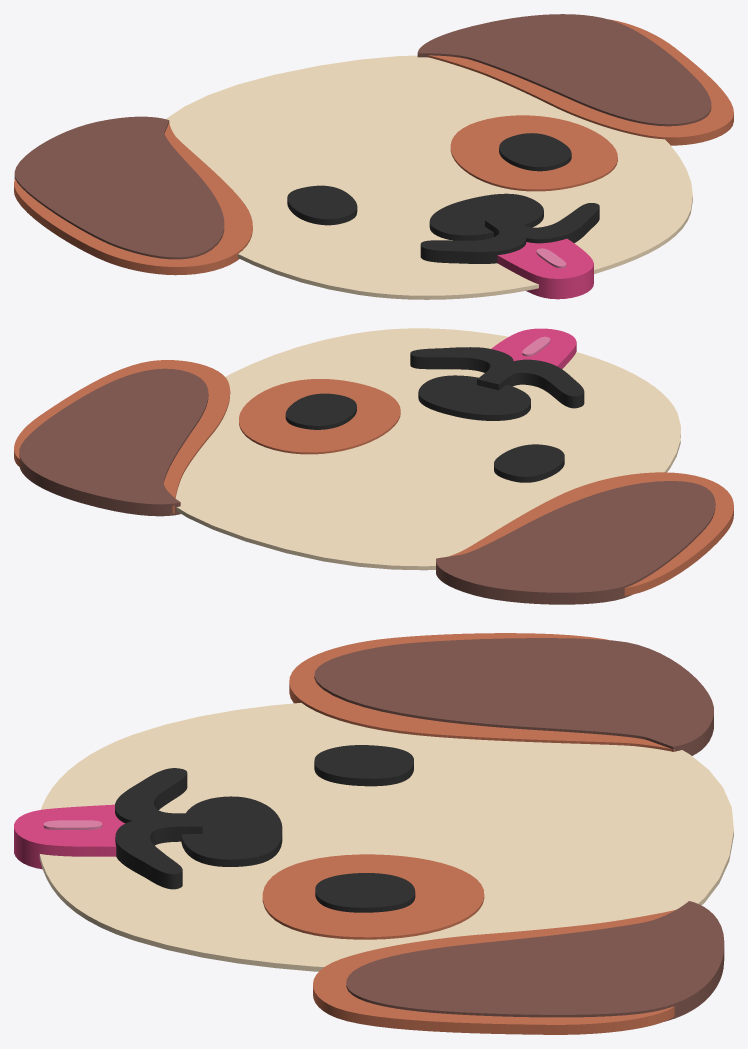
Rendered from emoji_u1f436.glb.
The picture shows the model from 3 angles, top to bottom: view 1: azimuth 30°, elevation 25°; view 2: azimuth 150°, elevation 25°; view 3: azimuth 270°, elevation 25°; orthographic projection. The views are drawn at different scales.
Visible parts, largest first — view 1: emoji_u1f436; view 2: emoji_u1f436; view 3: emoji_u1f436.
Part boxes in pixels (left/top/right/bottom): emoji_u1f436: left=14, top=14, right=733, bottom=299; emoji_u1f436: left=14, top=328, right=733, bottom=604; emoji_u1f436: left=14, top=633, right=733, bottom=1034.
Bounding box in the file's own units: 0.0335 × 0.0014 × 0.026.
